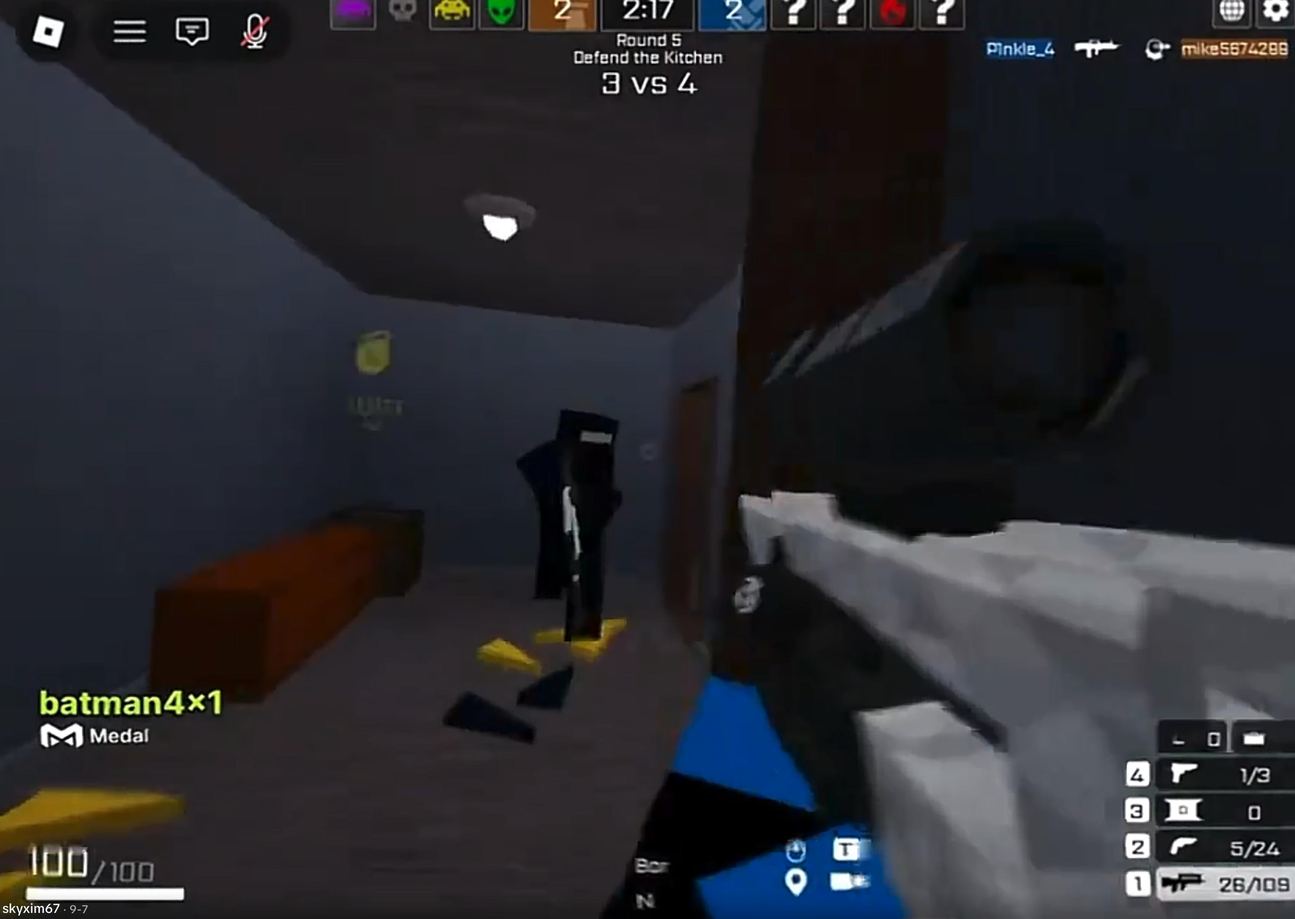enemy: (500, 398, 652, 659)
